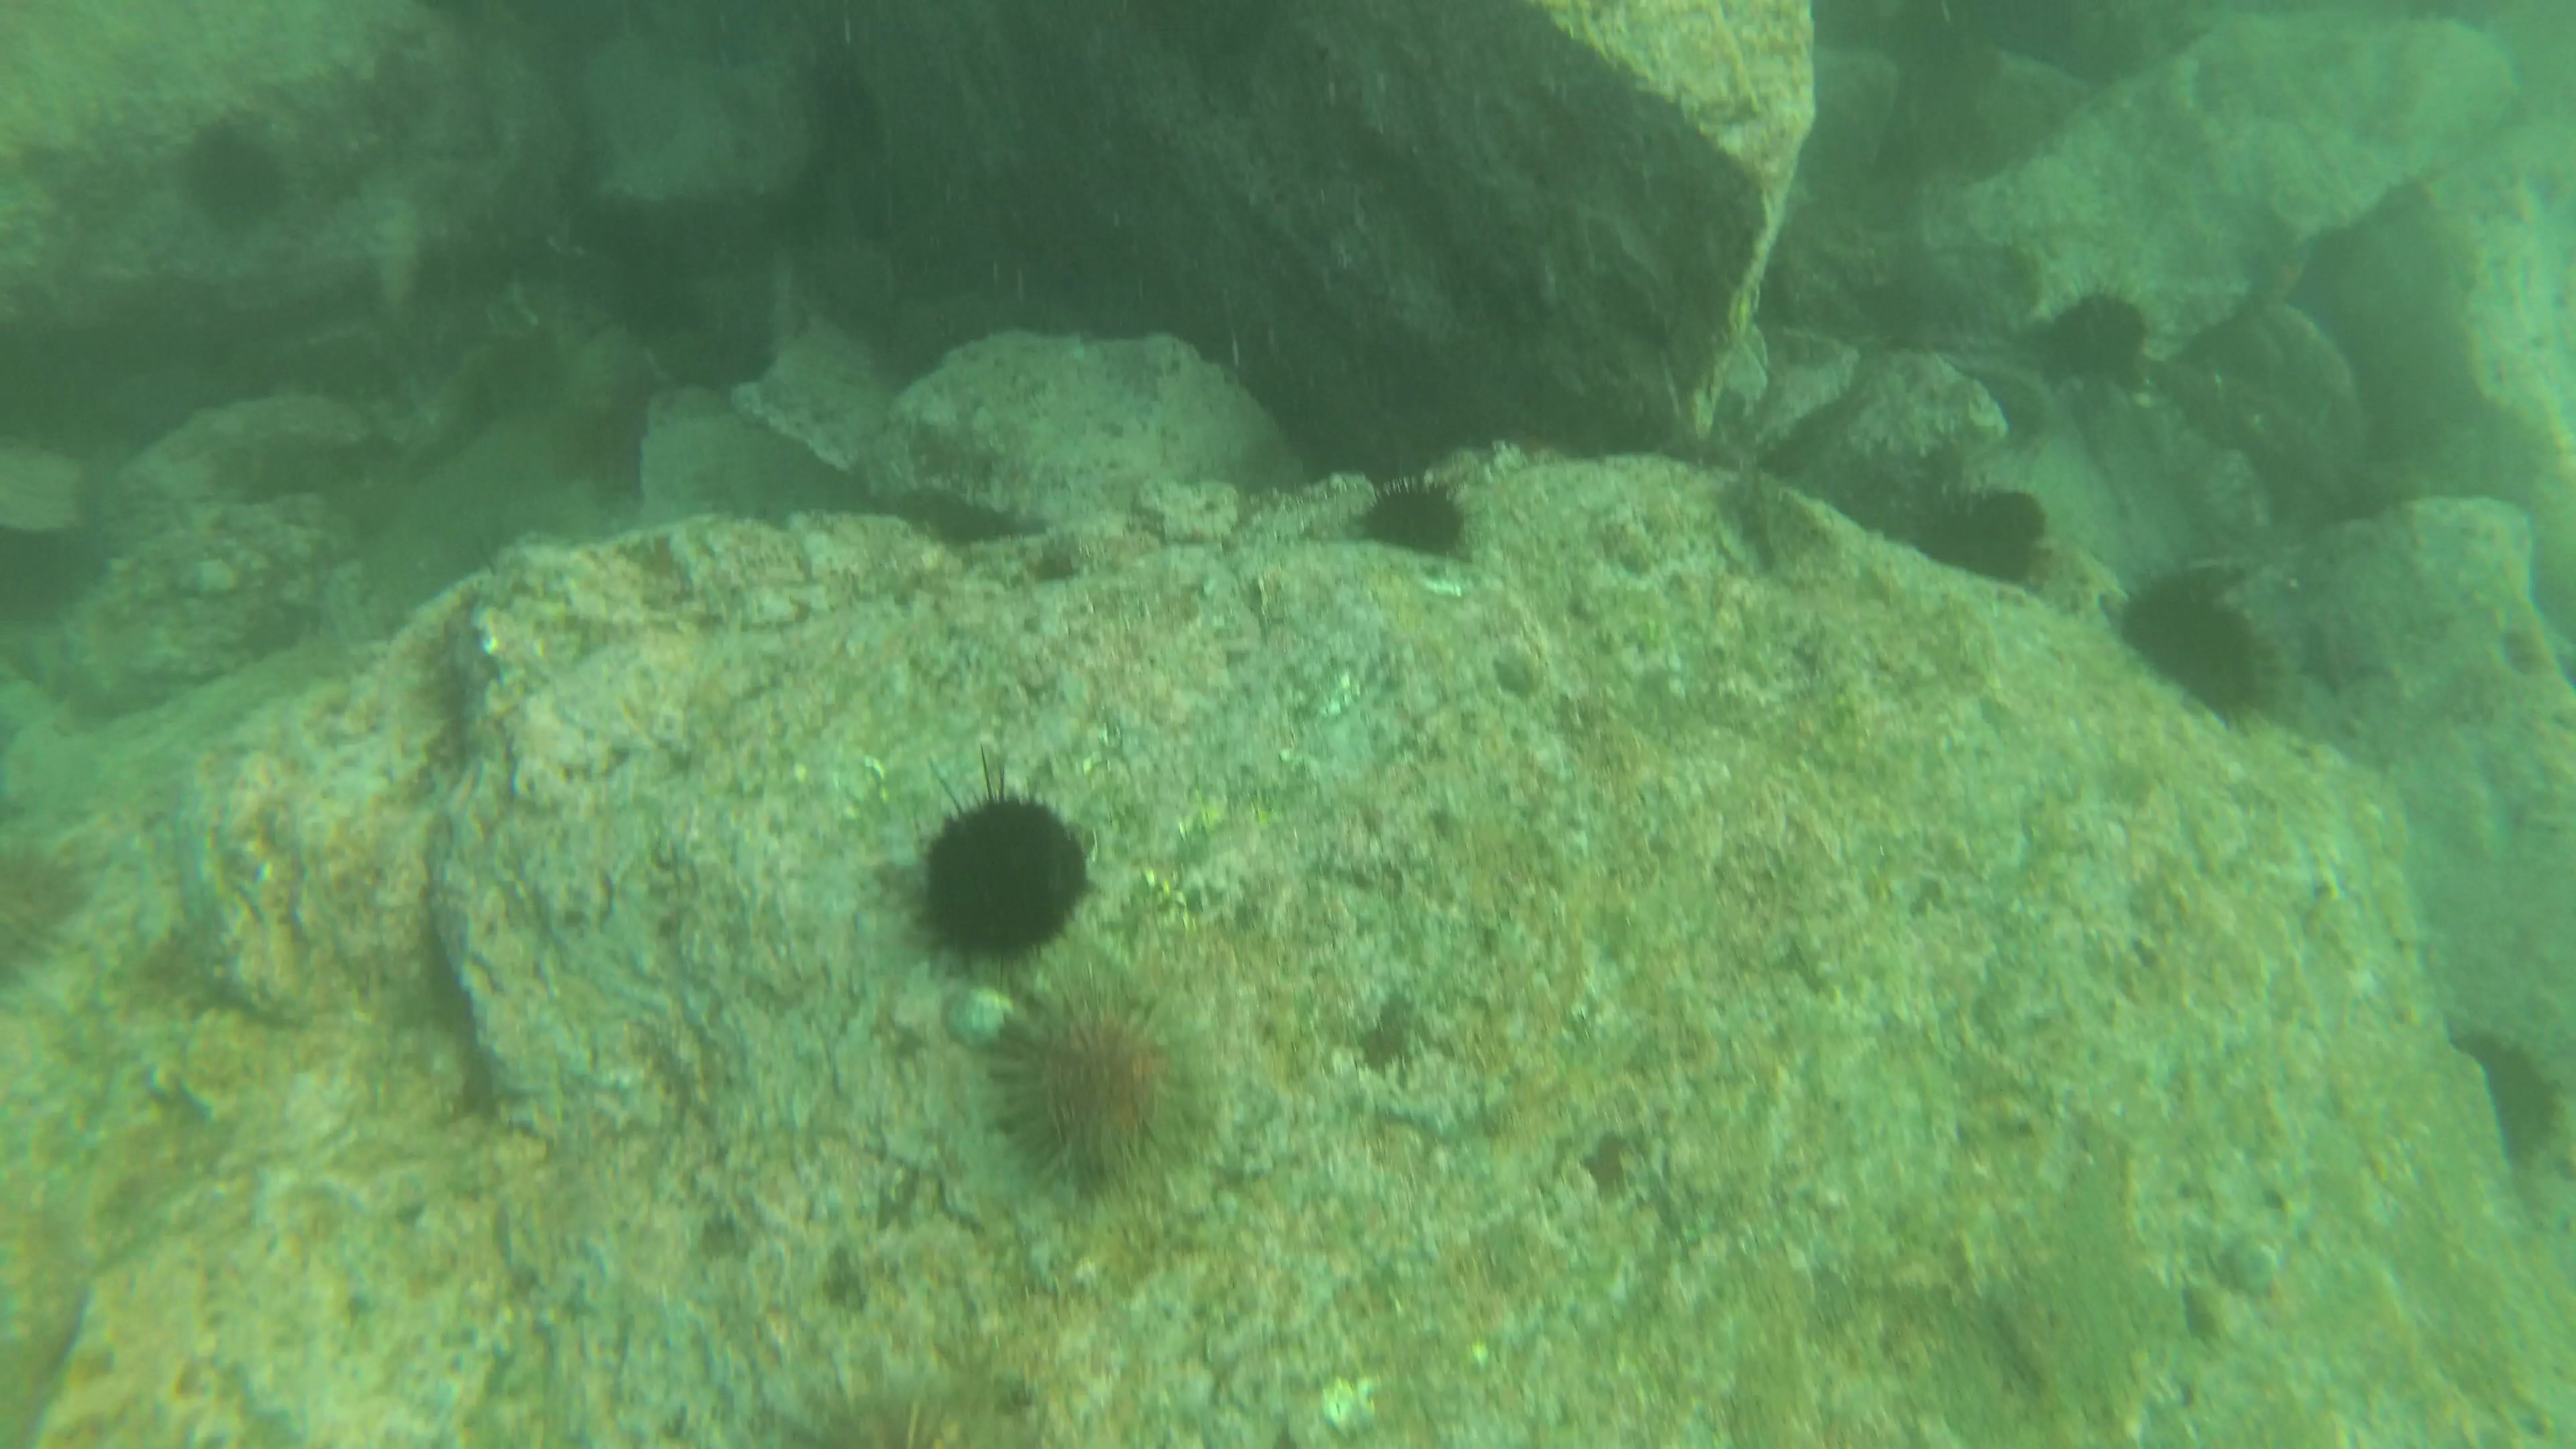echinus: (984, 1008, 1214, 1191), (924, 784, 1079, 950), (2109, 561, 2263, 702), (2445, 1021, 2565, 1175), (1934, 481, 2047, 591), (168, 129, 288, 223), (2043, 283, 2148, 389), (1371, 469, 1481, 561), (7, 830, 78, 961), (1031, 543, 1081, 593)
